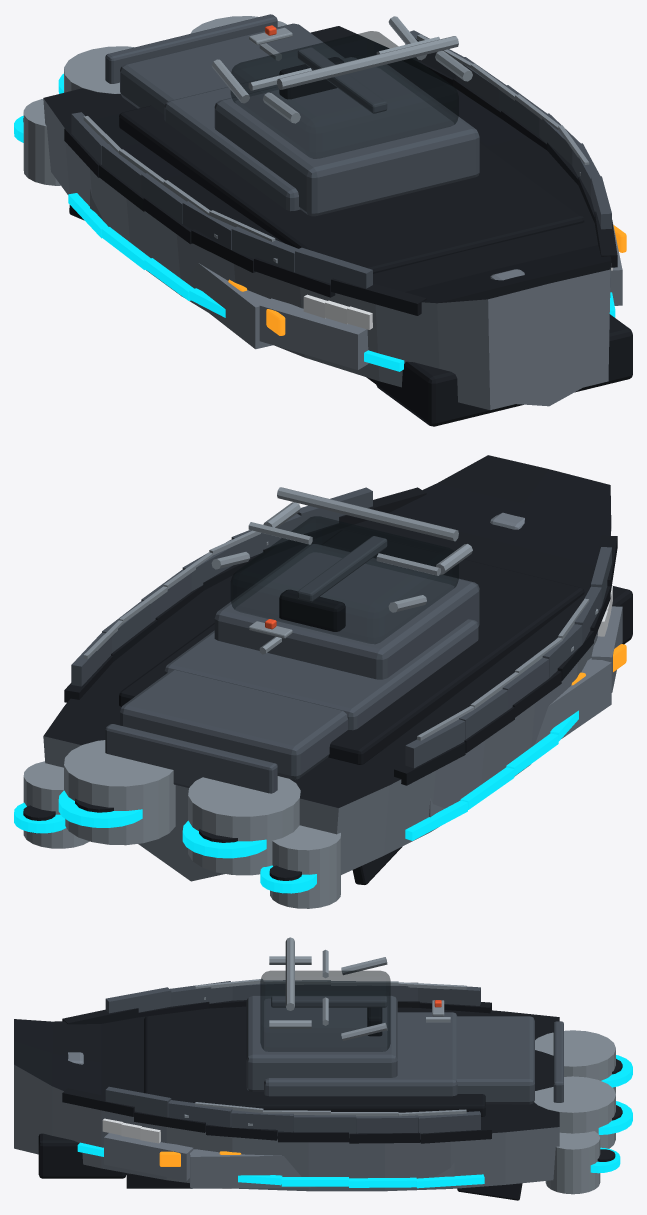
The model's file is panshi.glb.
The picture shows the model from 3 angles, top to bottom: view 1: azimuth 30°, elevation 25°; view 2: azimuth 150°, elevation 25°; view 3: azimuth 270°, elevation 25°; orthographic projection. The views are drawn at different scales.
Parts seen in each view (by area): view 1: hull, deck, cockpit_base, canopy, engine_deck, ram_low, deck_upper, sponson2_-1, sponson_-1, stern_plate, cage_bar, thr_housing_2 (+24 smaller); view 2: hull, cockpit_base, canopy, deck, engine_deck, deck_upper, thr_housing_1, thr_housing_0, stern_plate, thr_housing_2, sponson_-1, thr_housing_3 (+29 smaller); view 3: hull, deck, cockpit_base, canopy, deck_upper, engine_deck, thr_housing_1, sponson_1, thr_housing_3, thr_housing_0, sponson2_1, ram_low (+36 smaller).
Boxes of the visible parts, box(x1,y1,x2,y2) form: hull: box(43, 26, 611, 410); deck: box(119, 55, 584, 273); cockpit_base: box(214, 64, 479, 216); canopy: box(230, 31, 458, 158); engine_deck: box(120, 23, 344, 114); ram_low: box(375, 314, 632, 426); deck_upper: box(164, 57, 357, 211); sponson2_-1: box(259, 298, 368, 369); sponson_-1: box(90, 189, 272, 349); stern_plate: box(105, 14, 277, 83); cage_bar: box(277, 36, 458, 89); thr_housing_2: box(23, 99, 60, 185); hull: box(43, 455, 611, 881); cockpit_base: box(214, 544, 479, 679); canopy: box(230, 516, 458, 643); deck: box(119, 530, 584, 764); engine_deck: box(120, 670, 348, 779); deck_upper: box(164, 619, 478, 730); thr_housing_1: box(64, 740, 175, 845); thr_housing_0: box(188, 776, 300, 875); stern_plate: box(105, 724, 277, 793); thr_housing_2: box(270, 825, 340, 908); sponson_-1: box(429, 658, 611, 817); thr_housing_3: box(23, 761, 89, 848); hull: box(14, 1006, 559, 1191); deck: box(144, 1016, 485, 1116); cockpit_base: box(246, 995, 397, 1091); canopy: box(260, 970, 390, 1051); deck_upper: box(264, 1012, 457, 1096); engine_deck: box(456, 1016, 534, 1104); thr_housing_1: box(534, 1076, 615, 1148); sponson_1: box(189, 1149, 454, 1188); thr_housing_3: box(545, 1131, 600, 1194); thr_housing_0: box(535, 1030, 615, 1093); sponson2_1: box(104, 1133, 193, 1180); ram_low: box(38, 1133, 126, 1178).
Size of the model in its own units: 2.56 by 1.66 by 4.85.
